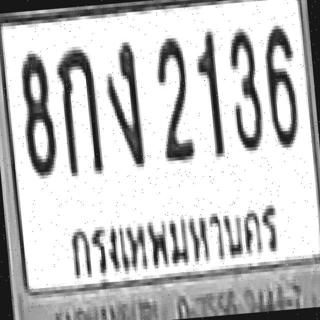A01: (53, 45, 101, 177)
A07: (101, 38, 144, 166)
N01: (192, 30, 224, 156)
N02: (152, 34, 192, 162)
N03: (225, 25, 264, 152)
N06: (261, 22, 300, 148)
N08: (16, 49, 57, 176)
P04: (63, 192, 292, 288)
